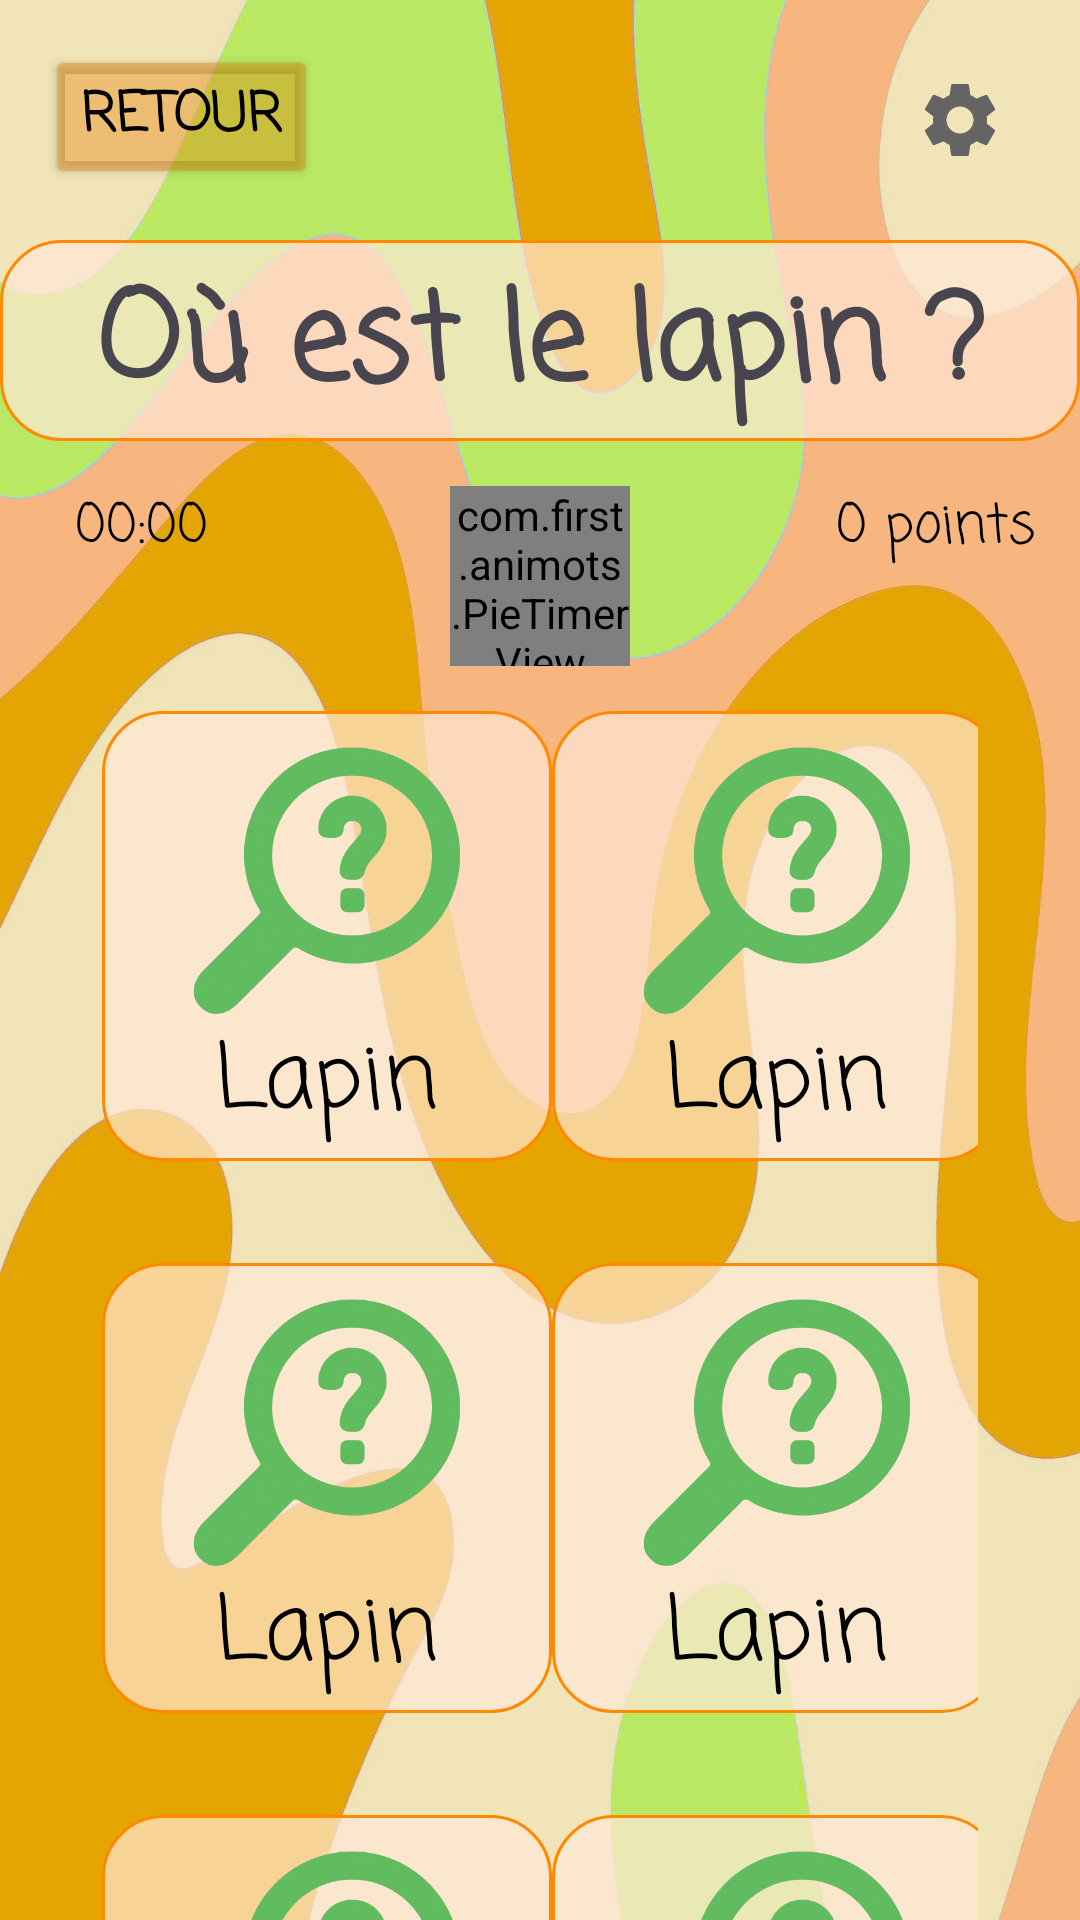

Icon bounding boxes for this 1080w x 1920h phone screenshot, format (x1, y1, x2, y2):
Paramètres: (925, 84, 995, 156)
